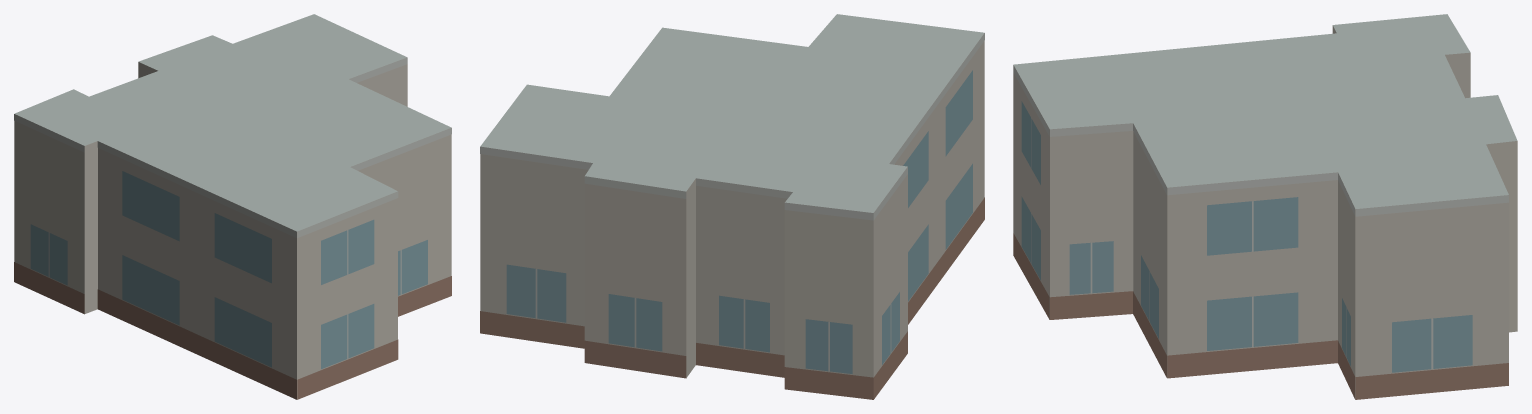
File: survey-upis-32688177.glb
3 views of the same model, side by side, from view 1: azimuth 30°, elevation 25°; view 2: azimuth 150°, elevation 25°; view 3: azimuth 270°, elevation 25° (orthographic). The views are drawn at different scales.
Visible parts, largest first — view 1: survey-upis-32688177.tmp; view 2: survey-upis-32688177.tmp; view 3: survey-upis-32688177.tmp.
Part boxes in pixels (x1=…): survey-upis-32688177.tmp: x1=14, y1=14, x2=451, y2=399; survey-upis-32688177.tmp: x1=480, y1=14, x2=984, y2=399; survey-upis-32688177.tmp: x1=1013, y1=14, x2=1517, y2=399.
Bounding box in the file's own units: 13.4 × 6.1 × 14.63.
